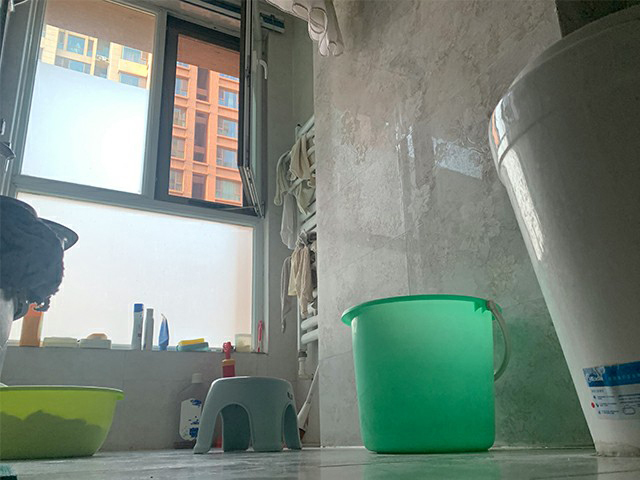closestool: (486, 5, 640, 457)
stool: (191, 374, 302, 455)
